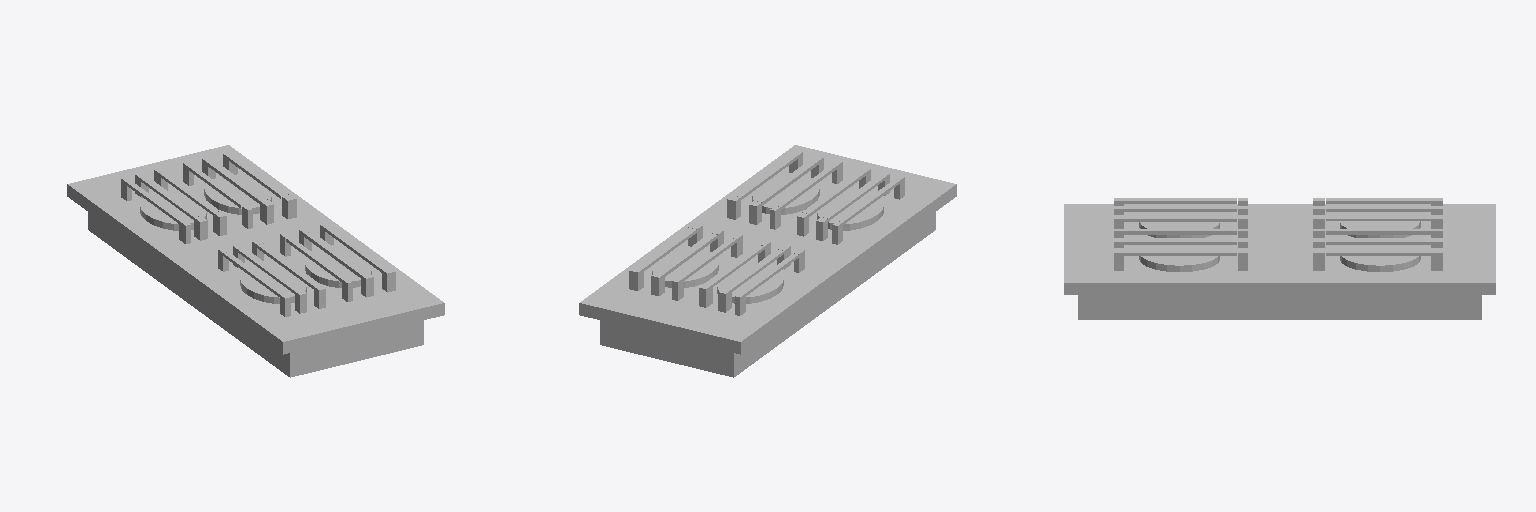
File: Estufa.obj
3 renders of one model, left to right at view 1: azimuth 30°, elevation 25°; view 2: azimuth 150°, elevation 25°; view 3: azimuth 270°, elevation 25°, orthographic.
Visible parts, largest first — view 1: Estufa:polySurface64; view 2: Estufa:polySurface64; view 3: Estufa:polySurface64.
Part boxes in pixels (bbox=[...]): Estufa:polySurface64: bbox=[67, 145, 444, 377]; Estufa:polySurface64: bbox=[579, 145, 956, 377]; Estufa:polySurface64: bbox=[1064, 198, 1495, 319].
Size of the model in its own units: 0.3505 by 0.1301 by 0.8128.